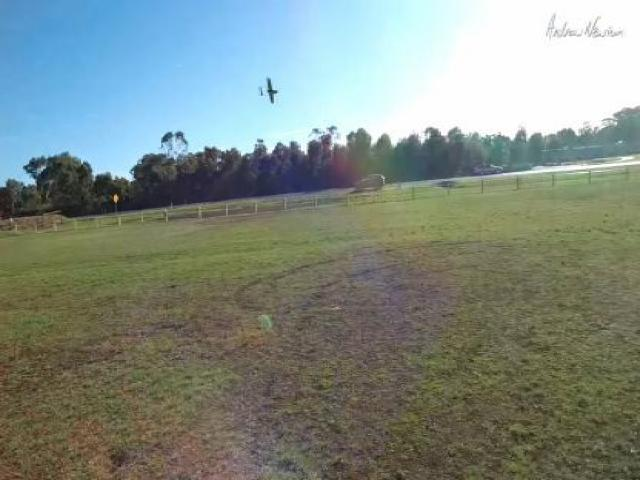uav: (253, 74, 284, 111)
